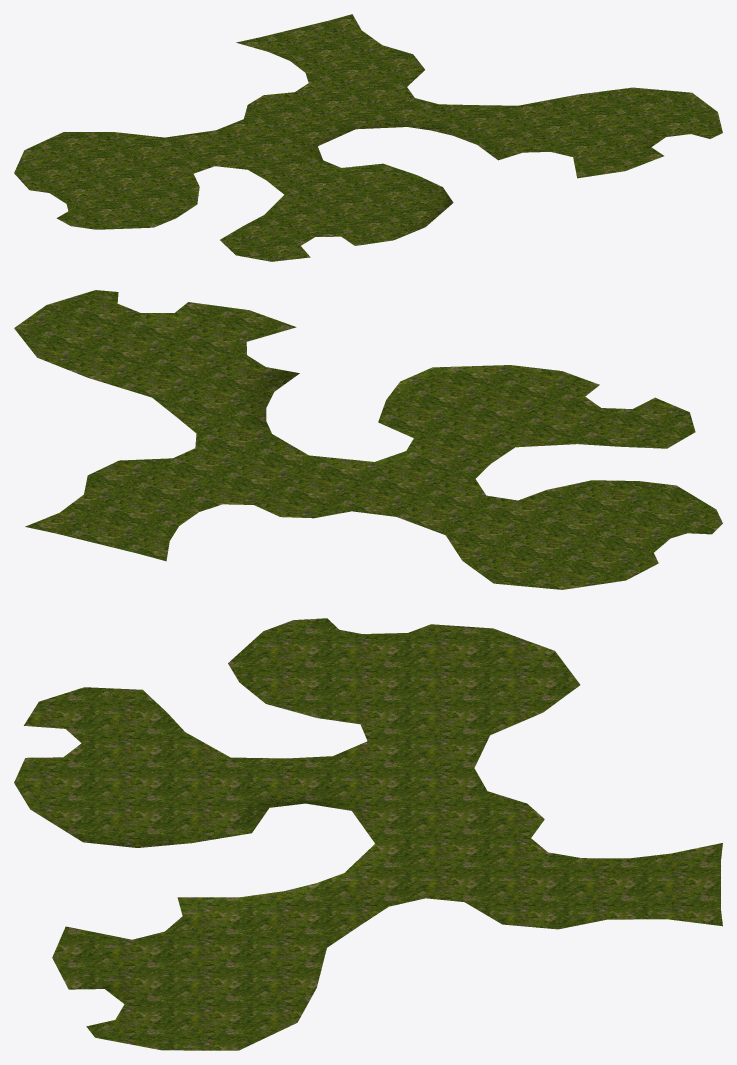
The model's file is OVERHILL_A_01_LINE10.fbx.
The picture shows the model from 3 angles, top to bottom: view 1: azimuth 30°, elevation 25°; view 2: azimuth 150°, elevation 25°; view 3: azimuth 270°, elevation 25°; orthographic projection. The views are drawn at different scales.
Parts seen in each view (by area): view 1: OVERHILL_A_01_LINE10; view 2: OVERHILL_A_01_LINE10; view 3: OVERHILL_A_01_LINE10.
Part boxes in pixels (x1,y1,x2,y2): OVERHILL_A_01_LINE10: (14,14,722,261); OVERHILL_A_01_LINE10: (14,290,722,589); OVERHILL_A_01_LINE10: (14,618,722,1050).
Bounding box in the file's own units: 259074 × 0.0353 × 179462.
1 material, 1 textured.
